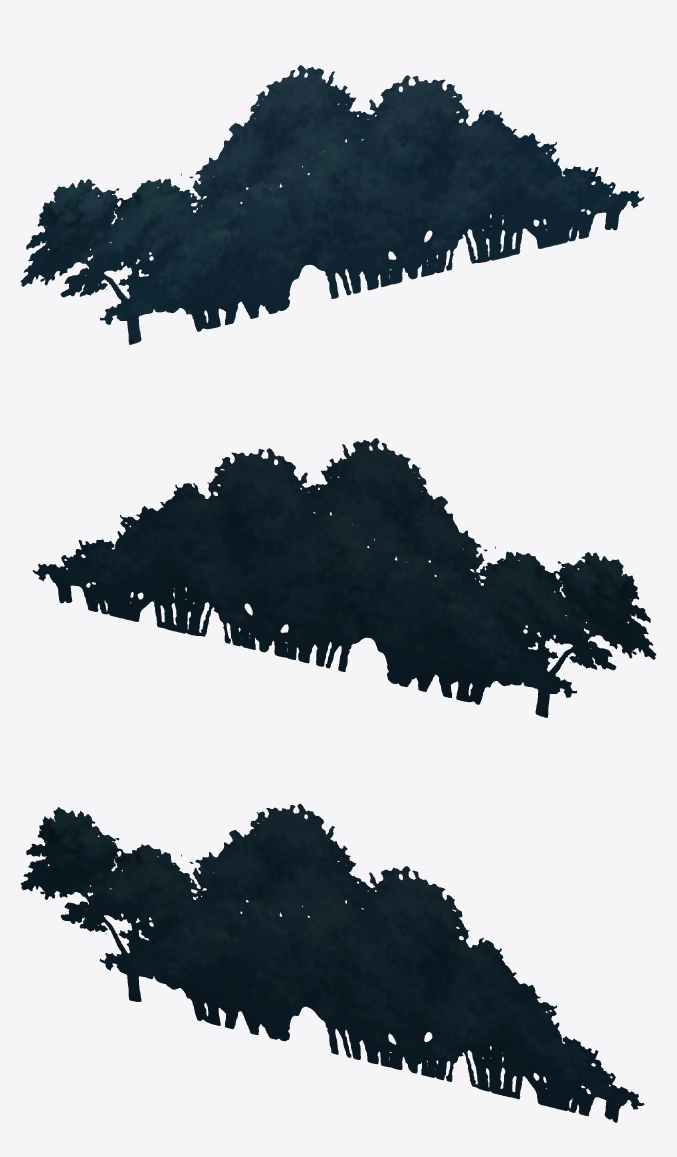
The model's file is HuBian_NightShu2_fbx.FBX.
3 renders of one model, top to bottom at view 1: azimuth 30°, elevation 25°; view 2: azimuth 150°, elevation 25°; view 3: azimuth 330°, elevation 25°, orthographic.
Parts seen in each view (by area): view 1: Object043; view 2: Object043; view 3: Object043.
Part boxes in pixels (<box>): Object043: <box>20,65,644,344</box>; Object043: <box>32,438,656,717</box>; Object043: <box>20,803,644,1122</box>.
Size of the model in its own units: 6.55 by 2.61 by 5.82e-07.
Materials: 1 (1 with a texture image).
